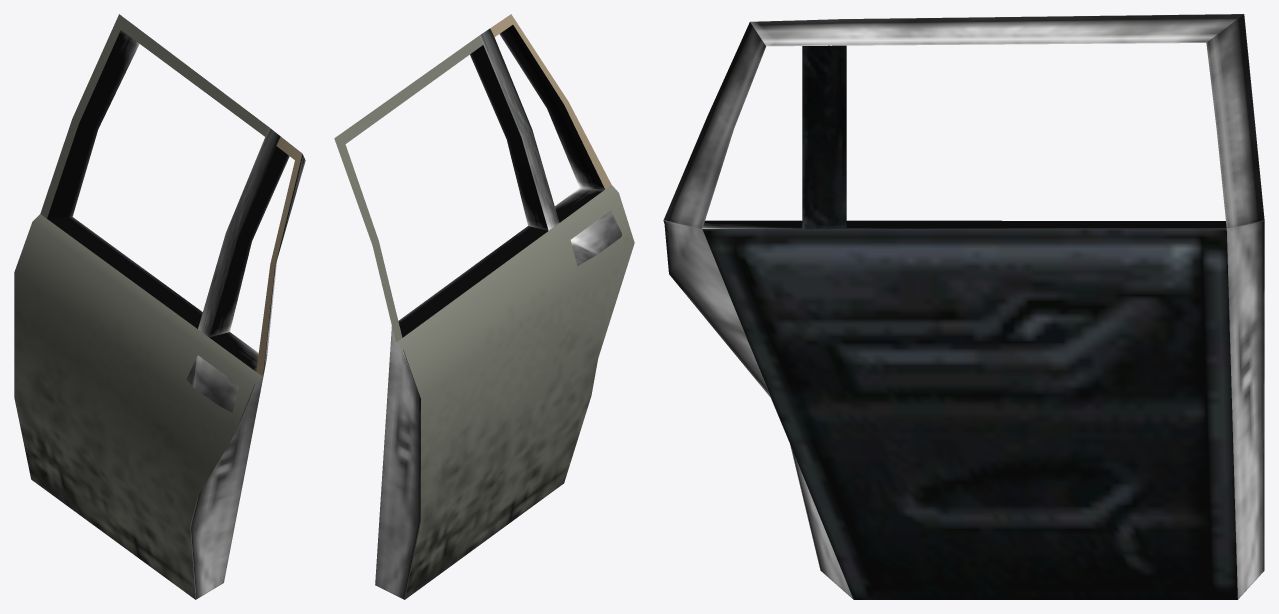
The model's file is door_rl.fbx.
The picture shows the model from 3 angles, left to right: view 1: azimuth 30°, elevation 25°; view 2: azimuth 150°, elevation 25°; view 3: azimuth 270°, elevation 25°; orthographic projection. The views are drawn at different scales.
Parts seen in each view (by area): view 1: node_23e3ec05_4f40_4478_81aa_02ce97bc742e_mesh0, node_df3b262b_5f71_48bc_9a80_a57f5e76a400_mesh0, node_984c8a6b_cba8_46f6_8813_c0714dfdc916_mesh0, node_76b4c84f_c912_4dab_b9d0_3db50fdd7e8b_mesh0, node_8efaa7a1_1358_4721_a950_372358718ad6_mesh0; view 2: node_23e3ec05_4f40_4478_81aa_02ce97bc742e_mesh0, node_df3b262b_5f71_48bc_9a80_a57f5e76a400_mesh0, node_984c8a6b_cba8_46f6_8813_c0714dfdc916_mesh0, node_76b4c84f_c912_4dab_b9d0_3db50fdd7e8b_mesh0, node_8efaa7a1_1358_4721_a950_372358718ad6_mesh0; view 3: node_1c8af883_3378_428d_ae54_38575cc57261_mesh0, node_984c8a6b_cba8_46f6_8813_c0714dfdc916_mesh0, node_df3b262b_5f71_48bc_9a80_a57f5e76a400_mesh0.
Part boxes in pixels (bbox=[...]): node_23e3ec05_4f40_4478_81aa_02ce97bc742e_mesh0: bbox=[14, 14, 269, 599]; node_df3b262b_5f71_48bc_9a80_a57f5e76a400_mesh0: bbox=[47, 30, 289, 371]; node_984c8a6b_cba8_46f6_8813_c0714dfdc916_mesh0: bbox=[190, 154, 305, 599]; node_76b4c84f_c912_4dab_b9d0_3db50fdd7e8b_mesh0: bbox=[186, 127, 280, 412]; node_8efaa7a1_1358_4721_a950_372358718ad6_mesh0: bbox=[256, 136, 302, 376]; node_23e3ec05_4f40_4478_81aa_02ce97bc742e_mesh0: bbox=[334, 36, 634, 599]; node_df3b262b_5f71_48bc_9a80_a57f5e76a400_mesh0: bbox=[398, 25, 604, 337]; node_984c8a6b_cba8_46f6_8813_c0714dfdc916_mesh0: bbox=[375, 326, 420, 599]; node_76b4c84f_c912_4dab_b9d0_3db50fdd7e8b_mesh0: bbox=[479, 28, 621, 265]; node_8efaa7a1_1358_4721_a950_372358718ad6_mesh0: bbox=[490, 14, 611, 189]; node_1c8af883_3378_428d_ae54_38575cc57261_mesh0: bbox=[702, 45, 1237, 599]; node_984c8a6b_cba8_46f6_8813_c0714dfdc916_mesh0: bbox=[663, 14, 1264, 599]; node_df3b262b_5f71_48bc_9a80_a57f5e76a400_mesh0: bbox=[702, 220, 1226, 228].
Size of the model in its own units: 29.88 by 119 by 106.
